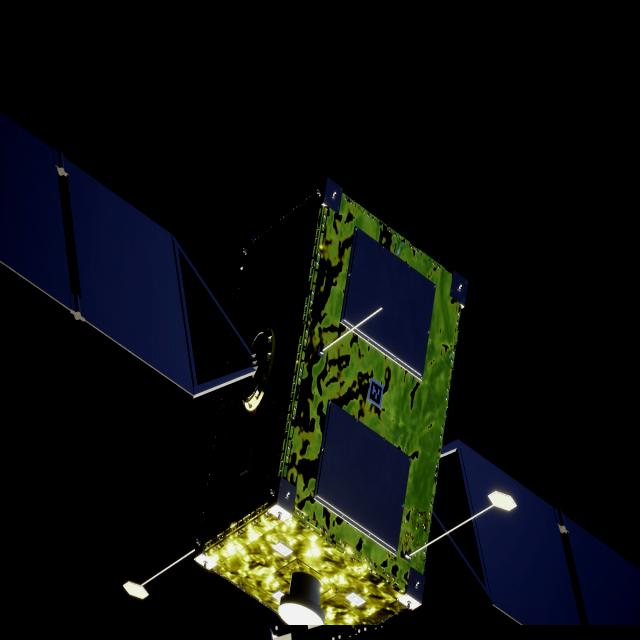satellite: (0, 110, 640, 629)
